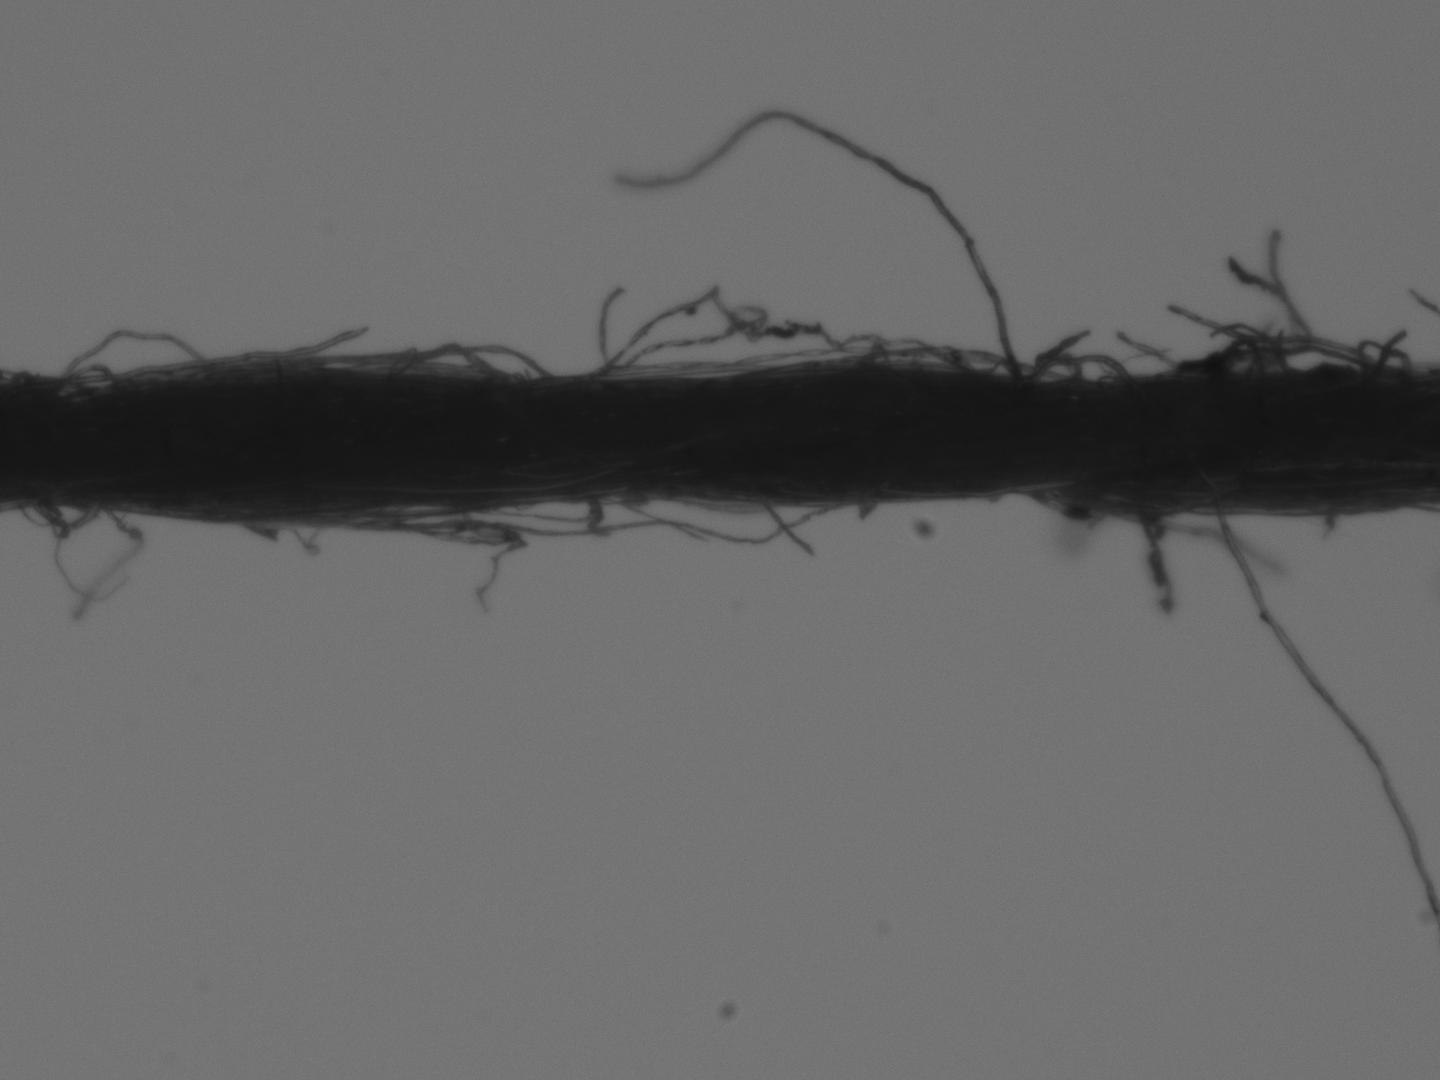loop_fiber: (619, 495, 840, 547), (1186, 332, 1399, 379), (319, 344, 545, 381), (823, 344, 1052, 379), (67, 330, 206, 385), (1026, 484, 1219, 517), (389, 344, 494, 379), (1028, 352, 1126, 386), (25, 501, 99, 538), (475, 501, 600, 520), (46, 364, 118, 394)
protruding_fiber: (613, 106, 1027, 389), (240, 323, 371, 362), (766, 500, 814, 555), (596, 284, 626, 370), (1116, 326, 1177, 366)
